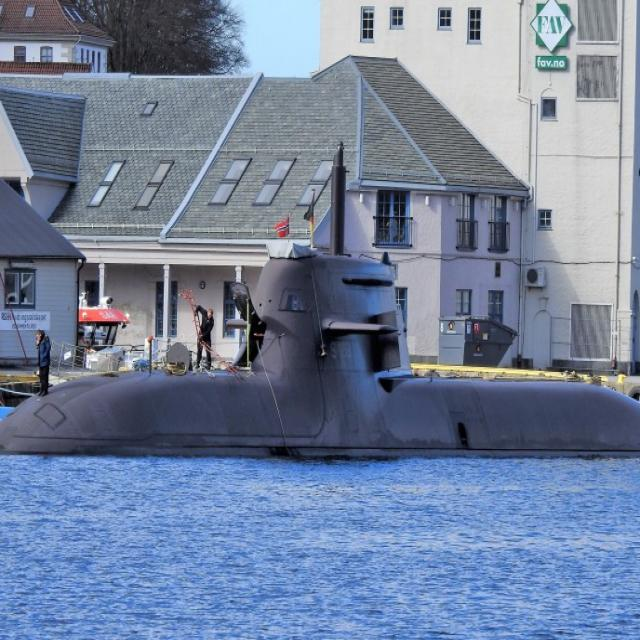submarine: (1, 136, 640, 454)
